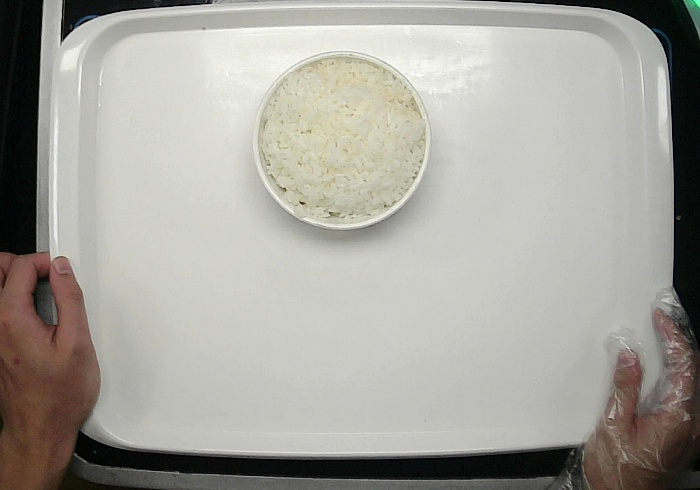HZYJPL-Fan_Wan: (252, 47, 435, 229)
